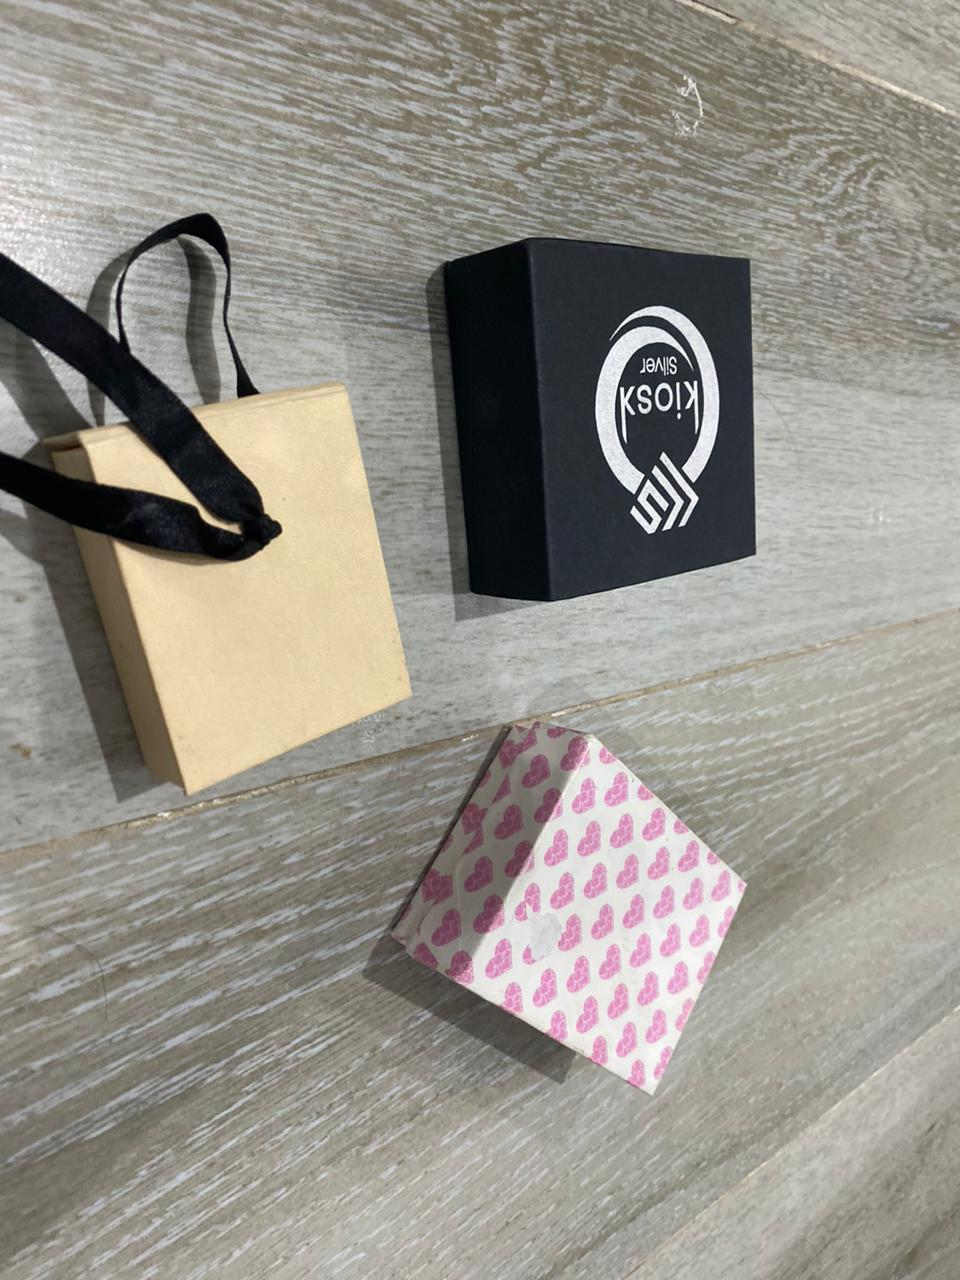Pink Box: (386, 719, 750, 1108)
Red Box: (442, 234, 775, 608)
Yellow Box: (41, 383, 416, 798)
